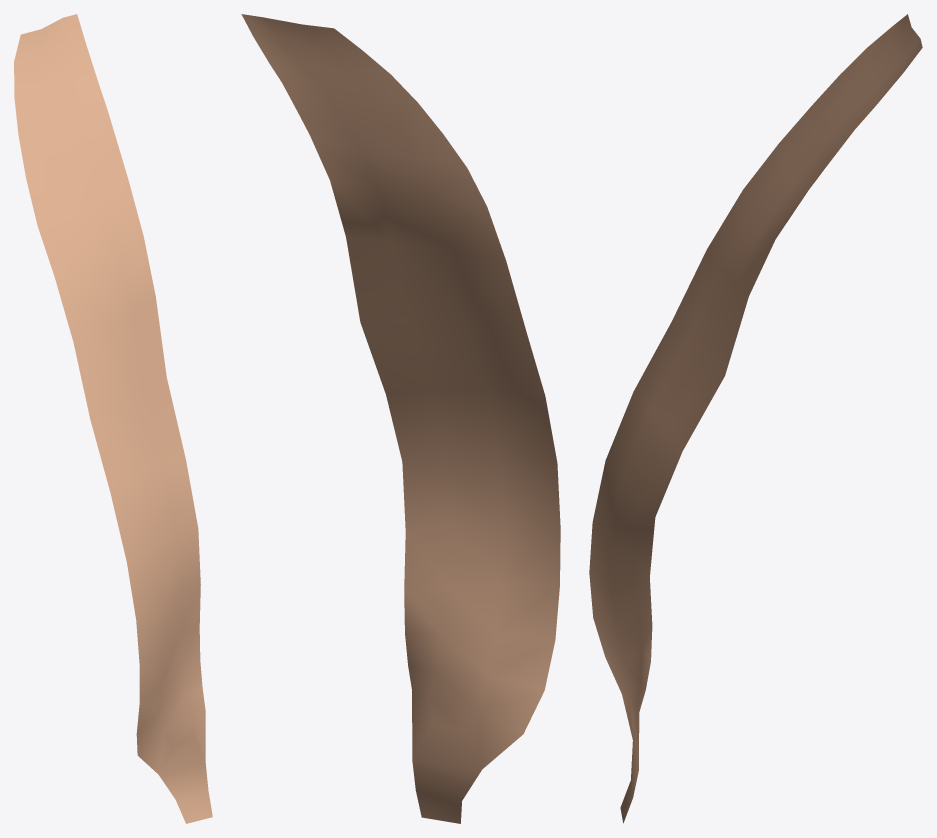
File: presternal-region-r.glb
The picture shows the model from 3 angles, left to right: view 1: azimuth 30°, elevation 25°; view 2: azimuth 150°, elevation 25°; view 3: azimuth 270°, elevation 25°; orthographic projection. The views are drawn at different scales.
Parts seen in each view (by area): view 1: Presternal region.r; view 2: Presternal region.r; view 3: Presternal region.r.
Part boxes in pixels (box(x1,y1,x2,y2)): Presternal region.r: box(14, 14, 212, 823); Presternal region.r: box(241, 14, 560, 823); Presternal region.r: box(589, 14, 922, 823).
Bounding box in the file's own units: 0.0278 × 0.1784 × 0.0694.
